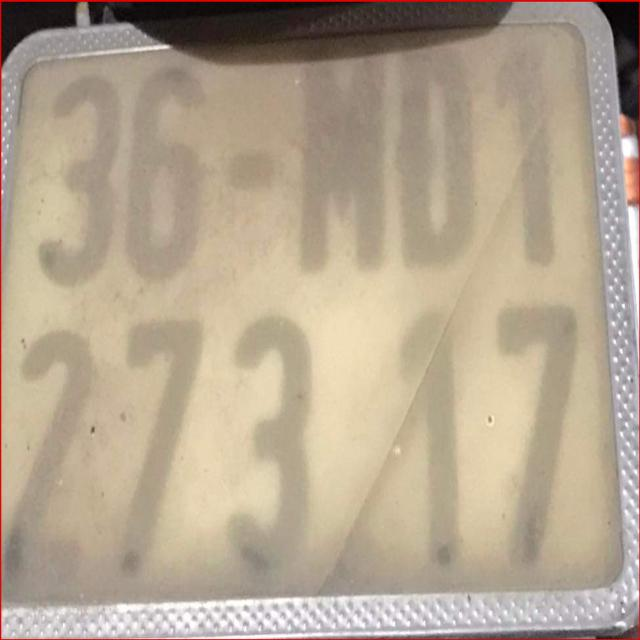1: (399, 302, 475, 568)
2: (10, 321, 99, 565)
3: (222, 306, 318, 564), (35, 65, 123, 287)
6: (126, 59, 210, 277)
7: (111, 306, 206, 576), (490, 293, 583, 565)
D: (392, 54, 485, 270)
M: (293, 58, 385, 275)
